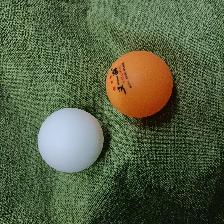WhiteBall: (37, 107, 104, 173)
YellowBall: (105, 50, 173, 117)
